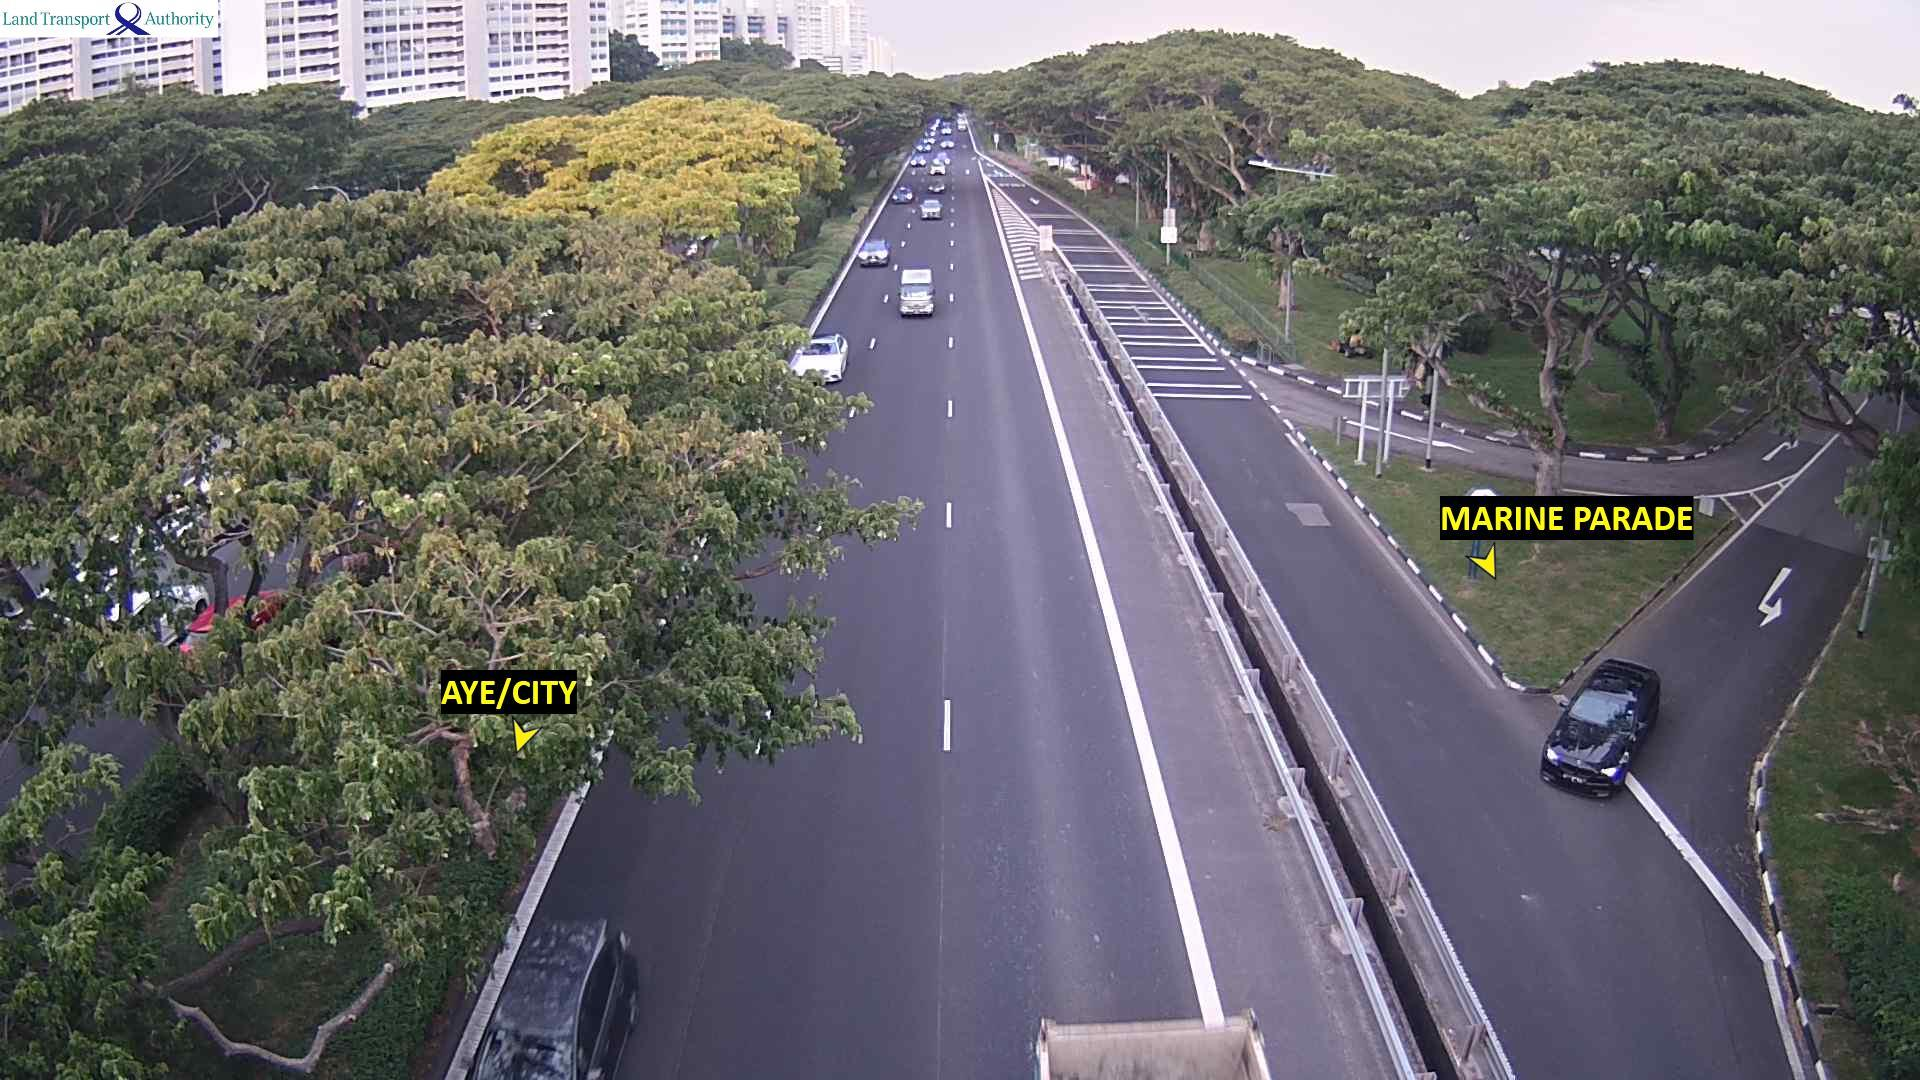incoming: (1540, 696, 1650, 802), (479, 1021, 579, 1079), (796, 340, 843, 378), (897, 280, 935, 319), (858, 243, 889, 265), (920, 200, 944, 220), (891, 187, 915, 204)
